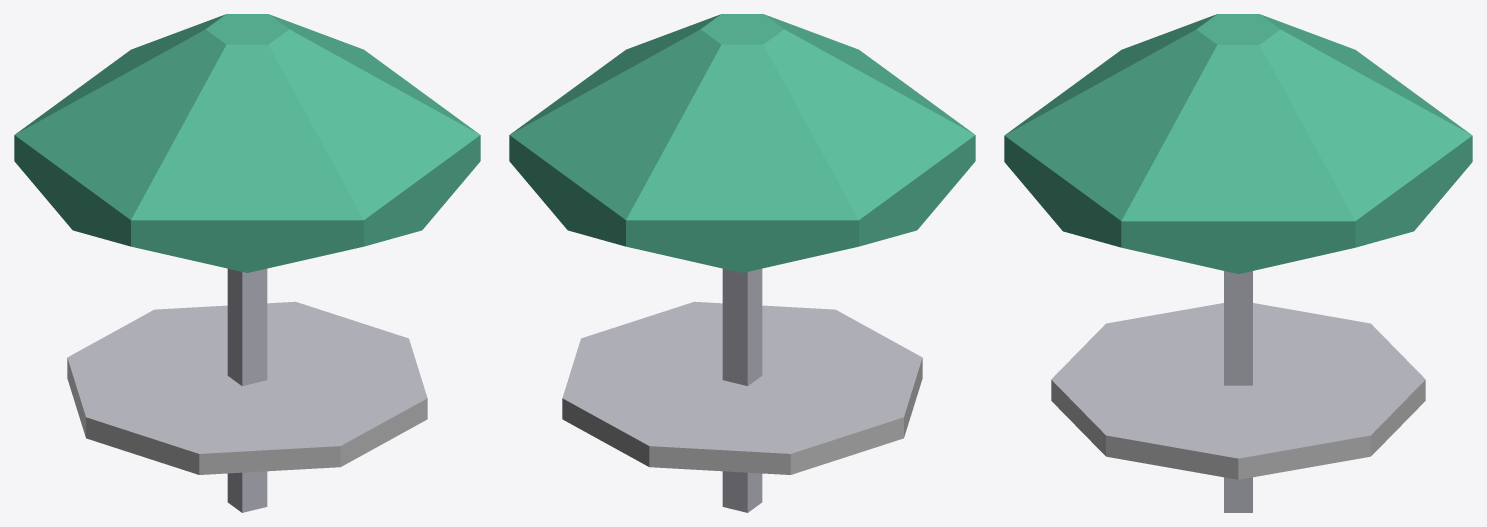
Rendered from detail_umbrellaDetailed.fbx.
The picture shows the model from 3 angles, left to right: view 1: azimuth 30°, elevation 25°; view 2: azimuth 150°, elevation 25°; view 3: azimuth 270°, elevation 25°; orthographic projection.
Parts seen in each view (by area): view 1: detail_umbrellaDetailed; view 2: detail_umbrellaDetailed; view 3: detail_umbrellaDetailed.
Part boxes in pixels (left/top/right/bottom): detail_umbrellaDetailed: left=14, top=14, right=480, bottom=512; detail_umbrellaDetailed: left=509, top=14, right=975, bottom=512; detail_umbrellaDetailed: left=1004, top=14, right=1472, bottom=512.
Size of the model in its own units: 3.46 by 4.5 by 4.
